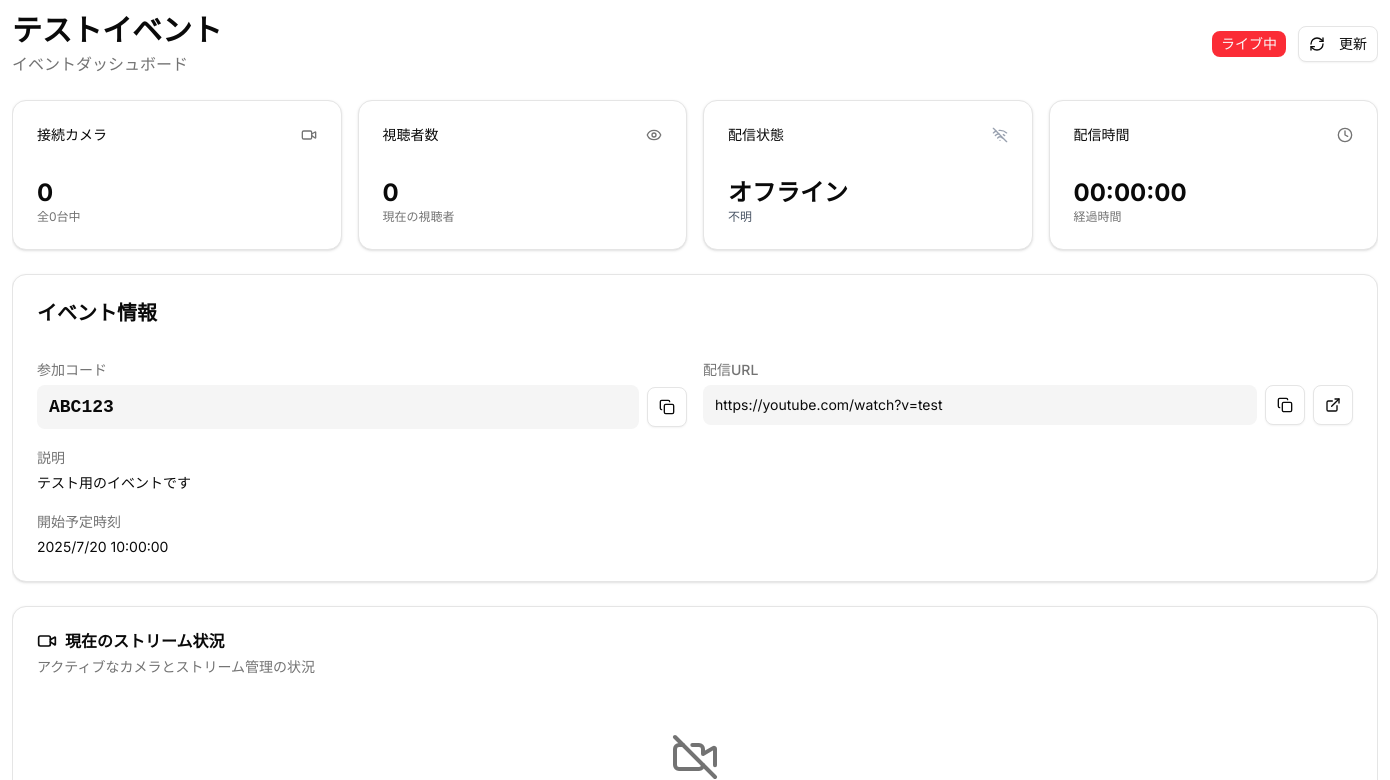
EventDashboard › should handle API errors gracefully
The image size is (1390, 780).
Click the button "更新". click: (1338, 44)
box: x1=1298 y1=26 x2=1378 y2=62
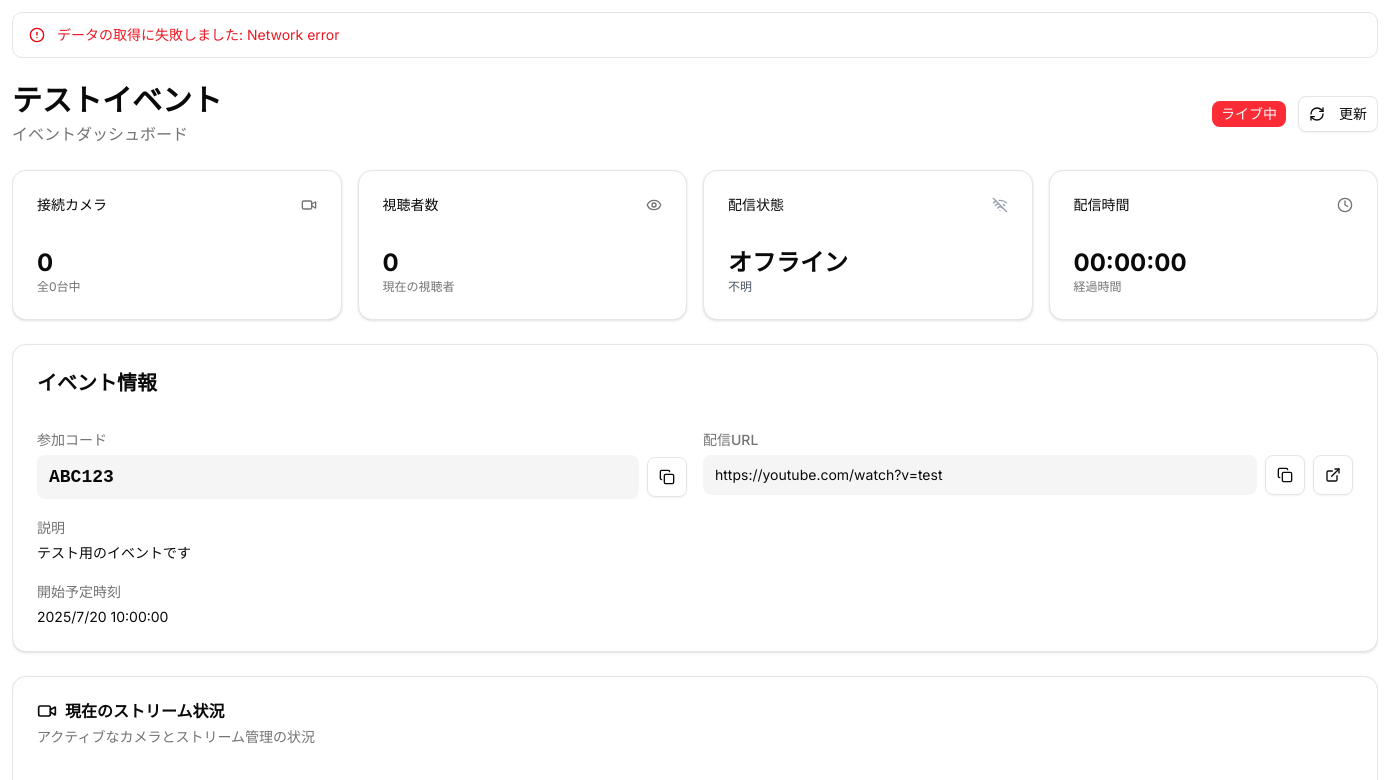
Check: the button "更新" is enabled, box x1=1298 y1=96 x2=1378 y2=132
Check: the text "データの取得に失敗しました: Network error" is shown, box x1=57 y1=26 x2=340 y2=43
